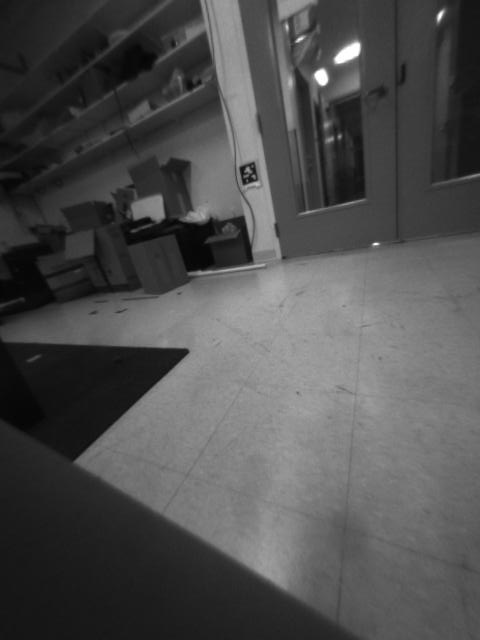door_handle: (358, 80, 392, 107)
